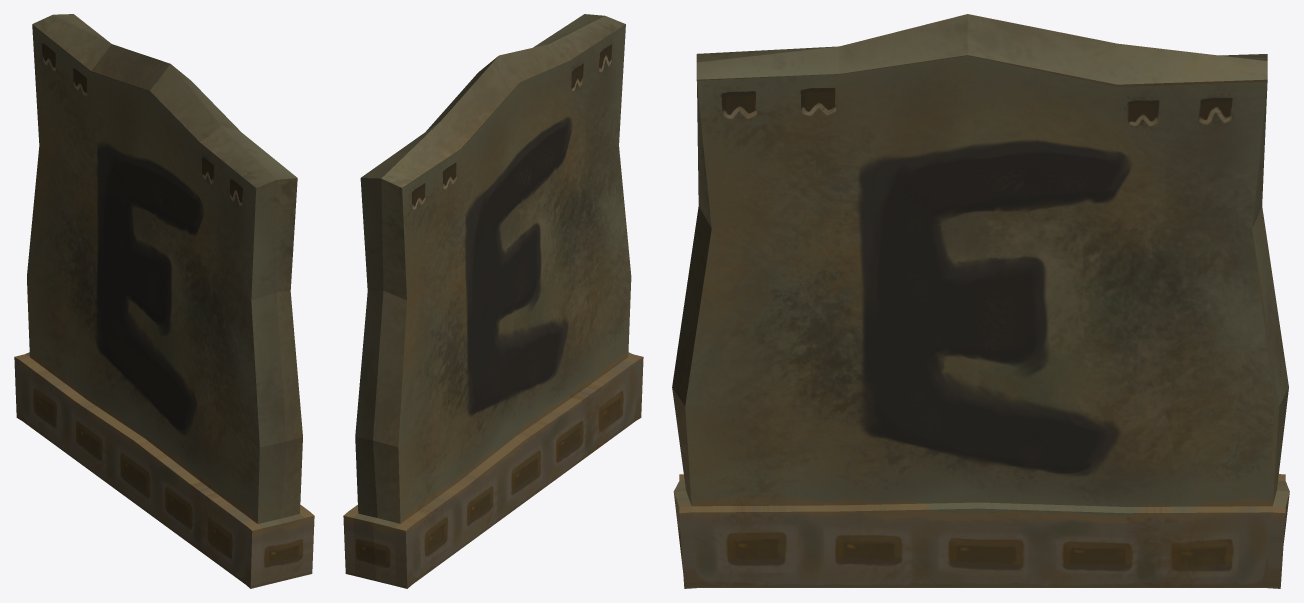
The model's file is SpecialDoor.fbx.
3 renders of one model, left to right at view 1: azimuth 30°, elevation 25°; view 2: azimuth 150°, elevation 25°; view 3: azimuth 270°, elevation 25°, orthographic. The views are drawn at different scales.
Visible parts, largest first — view 1: Cube; view 2: Cube; view 3: Cube.
Part boxes in pixels (x1,y1,x2,y2): Cube: [14, 14, 314, 588]; Cube: [343, 14, 643, 588]; Cube: [672, 14, 1289, 588].
Bounding box in the file's own units: 145 × 970 × 977.
2 materials, 2 textured.
